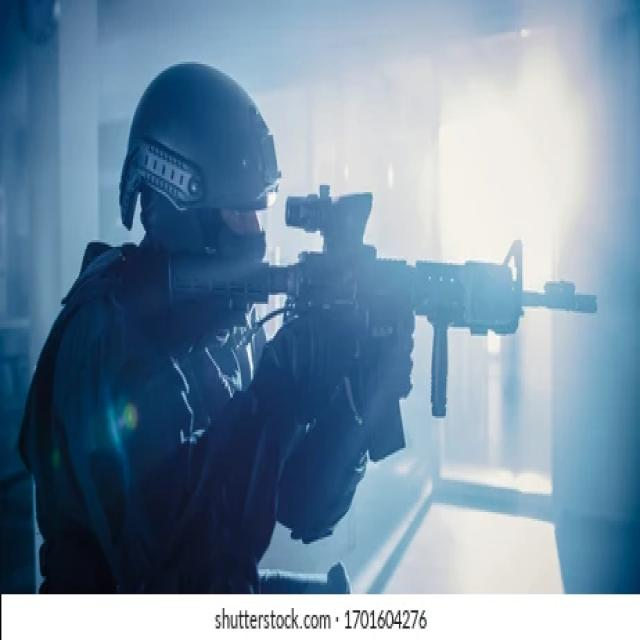soldier: (20, 56, 602, 599)
